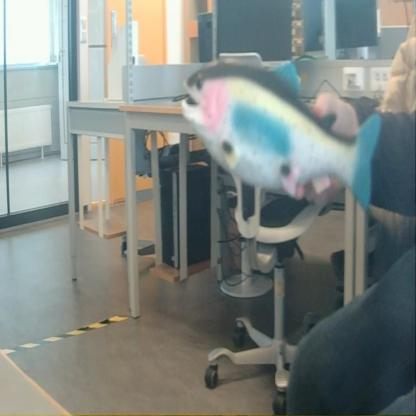rubberfish: (176, 57, 383, 220)
